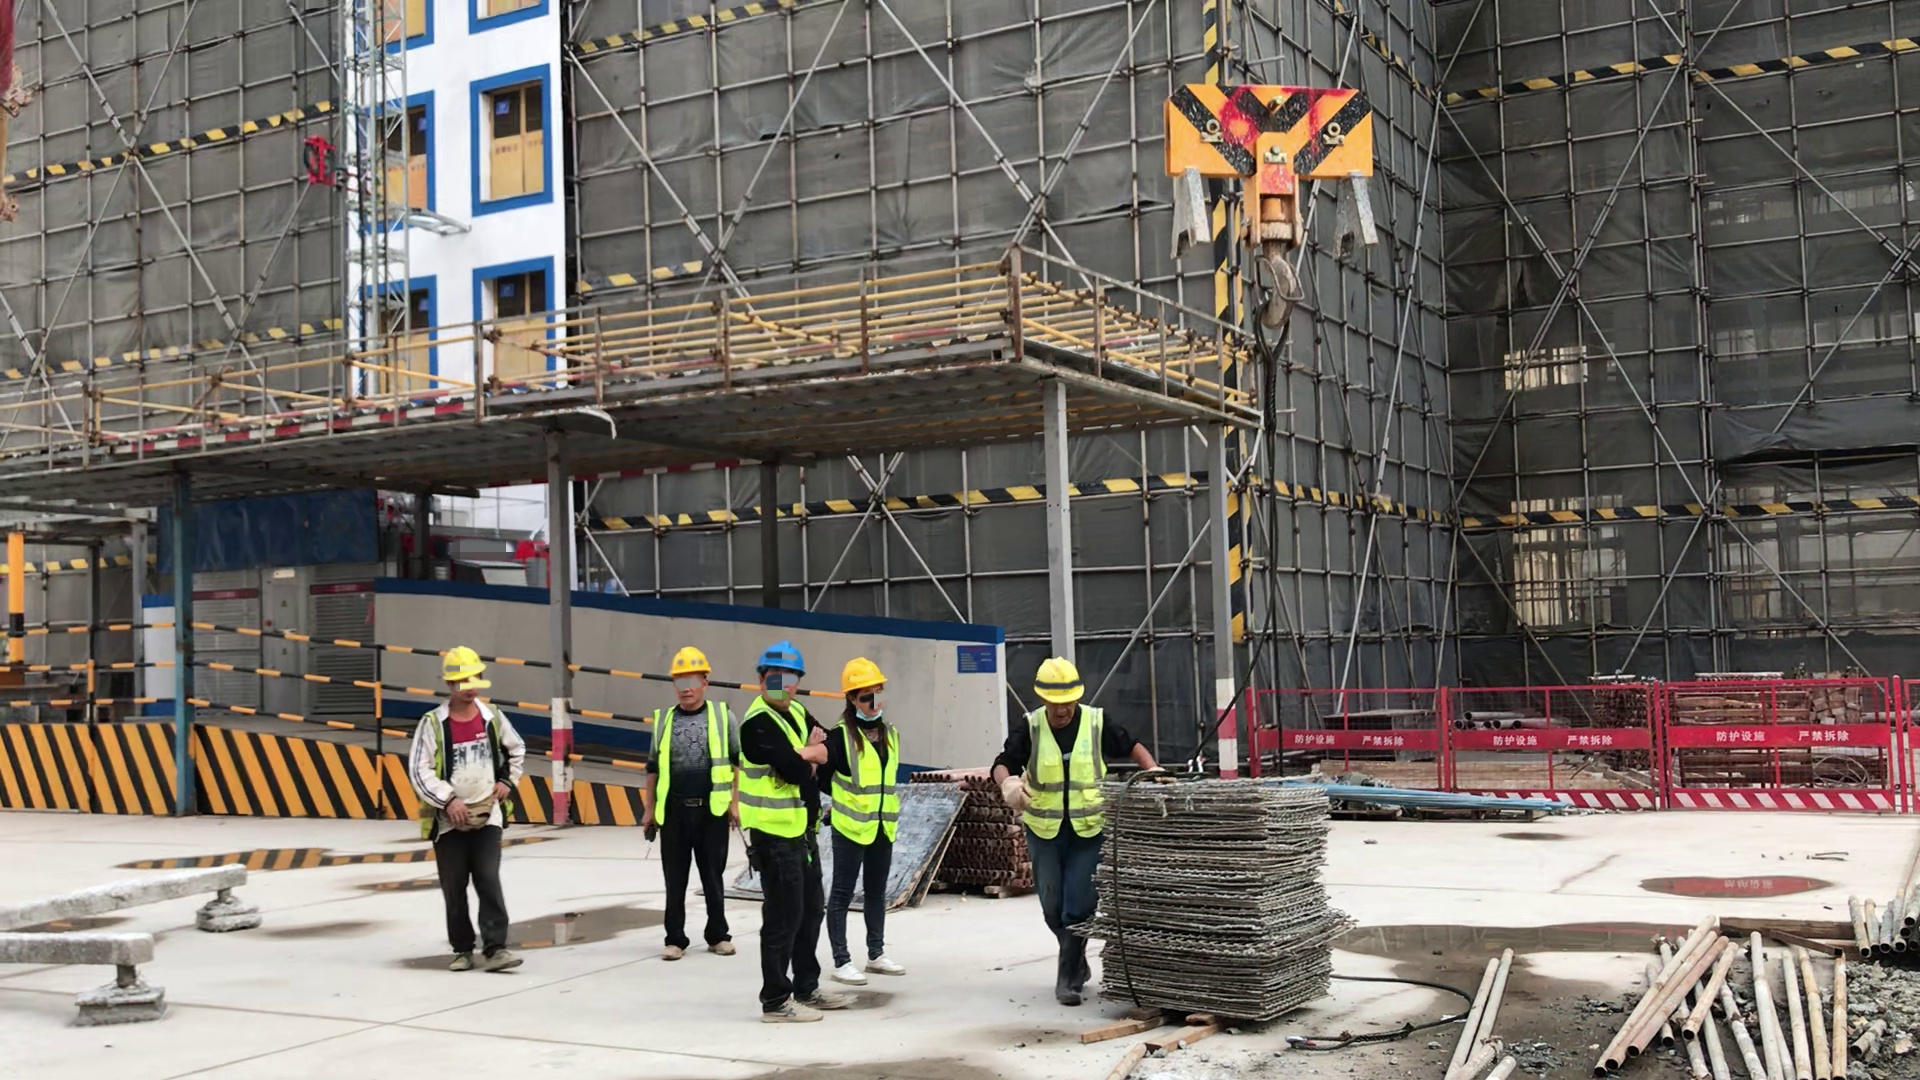helmet: (1028, 648, 1093, 704), (750, 641, 813, 683), (439, 640, 496, 685), (834, 657, 892, 699), (667, 643, 718, 686)
person: (992, 647, 1162, 1008), (415, 640, 541, 985), (639, 636, 746, 972), (744, 630, 828, 1030), (822, 655, 922, 992)
vest: (412, 701, 533, 832), (644, 700, 743, 834), (1022, 709, 1108, 844), (742, 697, 817, 847), (828, 718, 901, 855)
